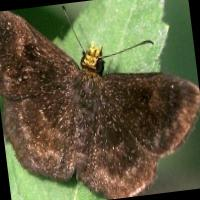butterfly: (0, 11, 200, 200)
